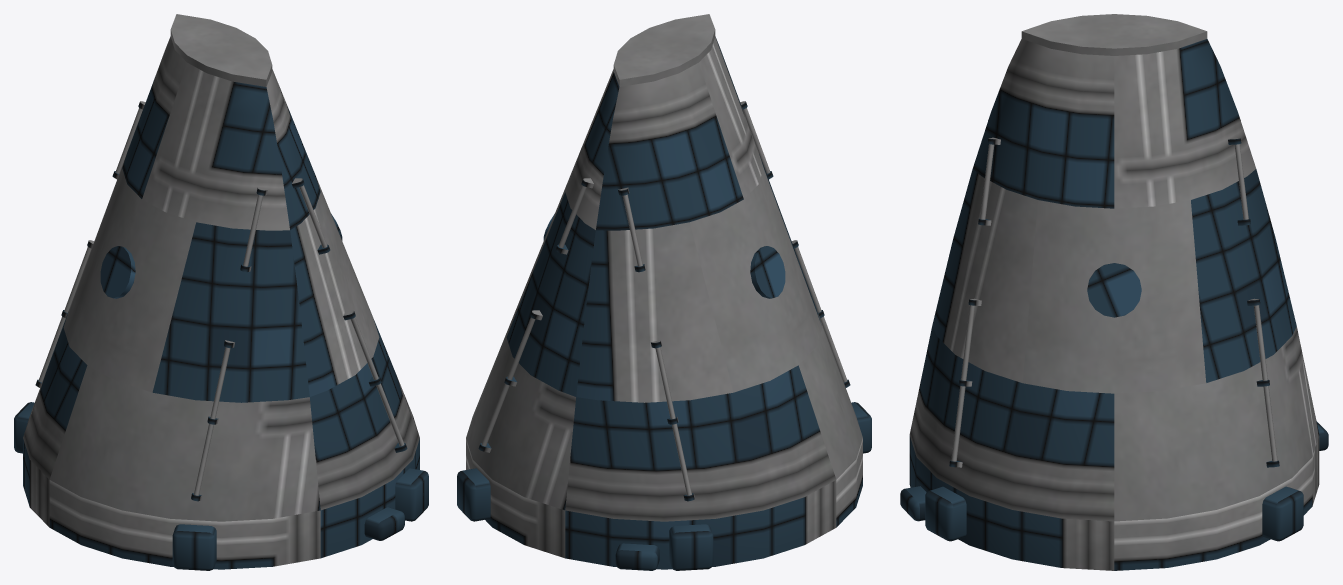
The model's file is spektr_cone.obj.
3 views of the same model, side by side, from view 1: azimuth 30°, elevation 25°; view 2: azimuth 150°, elevation 25°; view 3: azimuth 270°, elevation 25° (orthographic). The views are drawn at different scales.
Visible parts, largest first — view 1: s, 1.001; view 2: s, 1.001; view 3: s, 1.001.
Part boxes in pixels (x1,y1,x2,y2): s: (23,36,419,569); 1.001: (14,14,428,570); s: (466,36,862,569); 1.001: (457,14,871,570); s: (909,39,1319,570); 1.001: (900,14,1328,541).
Size of the model in its own units: 1.88 by 2.29 by 1.96.
